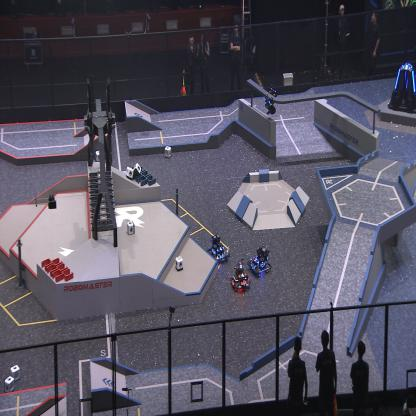car: (247, 244, 271, 277), (230, 260, 251, 292), (208, 234, 230, 264)
